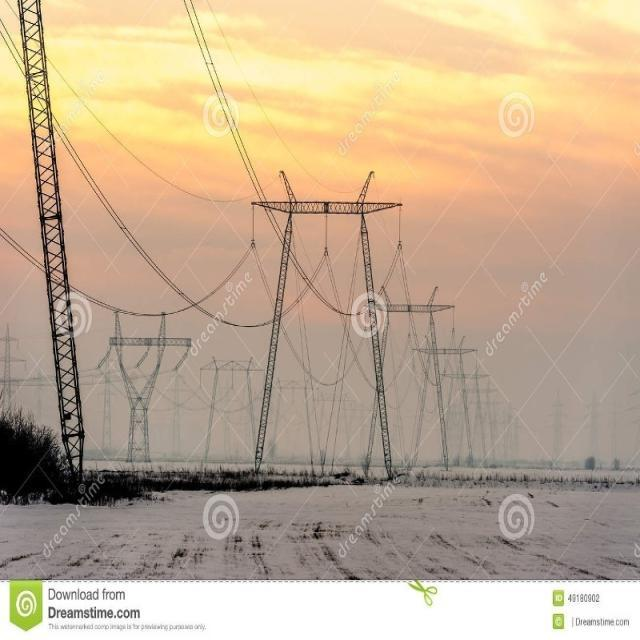non-critical vegetation: (238, 191, 390, 471), (105, 310, 182, 468)
